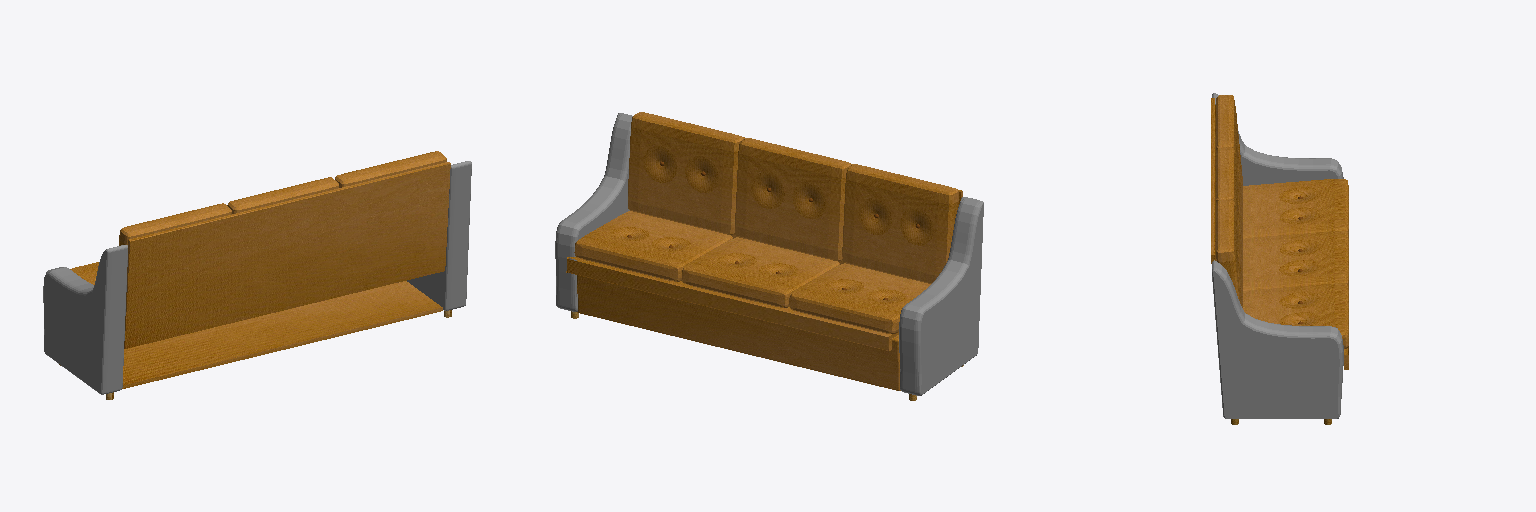
The picture shows the model from 3 angles: view 1: azimuth 30°, elevation 25°; view 2: azimuth 150°, elevation 25°; view 3: azimuth 270°, elevation 25°; orthographic projection.
Parts seen in each view (by area): view 1: Box10, Rectangle01, Box01, Box02, Box08, Box06; view 2: Rectangle01, ChamferBox01, Box06, Box08, Box02, Box07, Box09, Box05, L-Ext01; view 3: Rectangle01, Box07, Box05, Box09, Box08, Box06, Box02, Box10.
Part boxes in pixels (left/top/right/bottom): Box10: left=124, top=162, right=450, bottom=348; Rectangle01: left=43, top=161, right=471, bottom=394; Box01: left=122, top=281, right=442, bottom=388; Box02: left=119, top=203, right=231, bottom=245; Box08: left=335, top=151, right=446, bottom=187; Box06: left=227, top=177, right=338, bottom=213; Rectangle01: left=555, top=113, right=983, bottom=395; ChamferBox01: left=577, top=275, right=900, bottom=390; Box06: left=735, top=138, right=850, bottom=260; Box08: left=628, top=112, right=743, bottom=234; Box02: left=842, top=164, right=958, bottom=283; Box07: left=682, top=237, right=839, bottom=307; Box09: left=574, top=211, right=732, bottom=281; Box05: left=789, top=263, right=930, bottom=334; L-Ext01: left=566, top=257, right=898, bottom=350; Rectangle01: left=1212, top=93, right=1343, bottom=418; Box07: left=1243, top=231, right=1348, bottom=290; Box05: left=1243, top=179, right=1348, bottom=238; Box09: left=1243, top=283, right=1348, bottom=348; Box08: left=1216, top=199, right=1242, bottom=307; Box06: left=1216, top=147, right=1242, bottom=279; Box02: left=1216, top=95, right=1242, bottom=227; Box10: left=1211, top=98, right=1215, bottom=263.
Bounding box in the file's own units: 204 × 90.3 × 66.98.
3 materials, 2 textured.